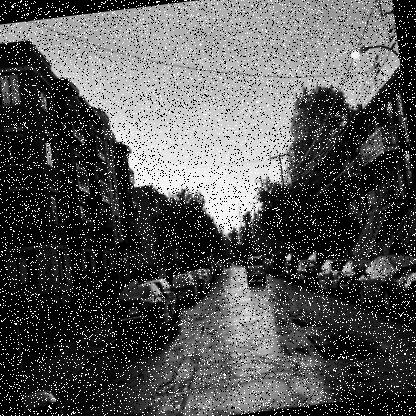Car: (135, 238, 380, 331), (100, 276, 184, 352), (354, 250, 415, 317), (18, 362, 66, 415), (398, 252, 415, 324)
